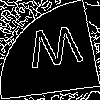W: (25, 25, 87, 78)
